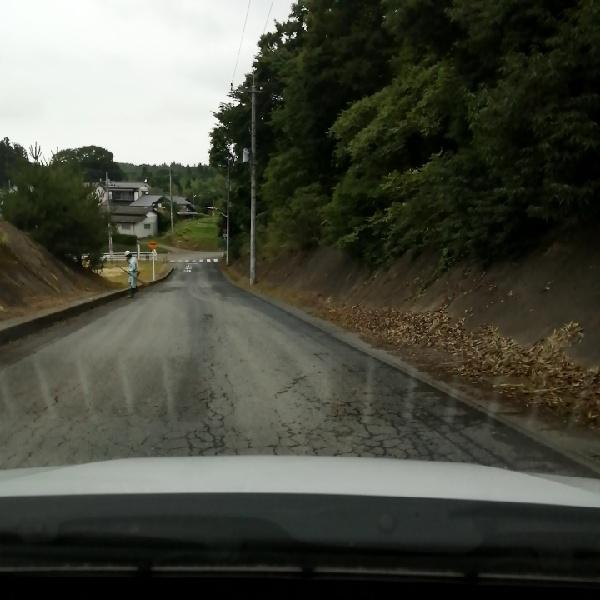D20: (86, 330, 538, 468)
